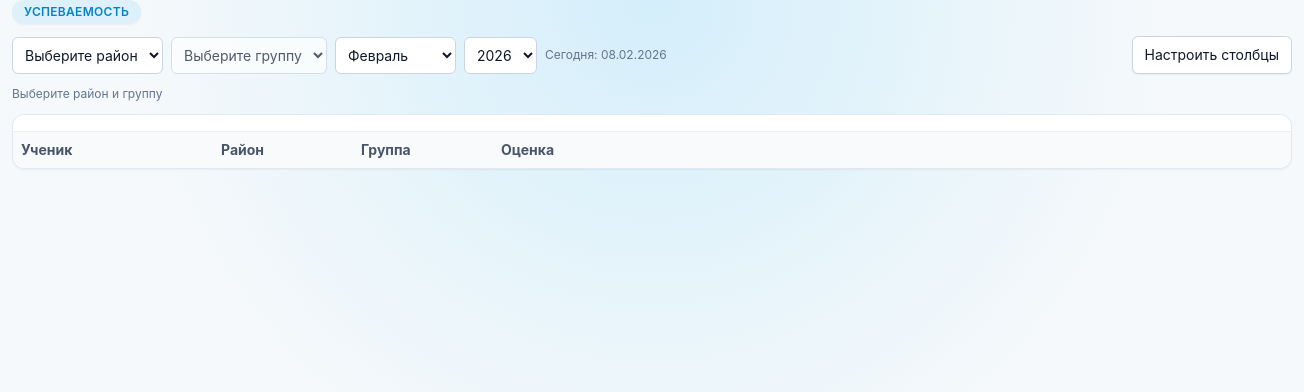
Test case: PerformanceTab hides canceled placements and clients
Select "Area1" in the 1st dropdown: (88, 55) [12,36,163,74]
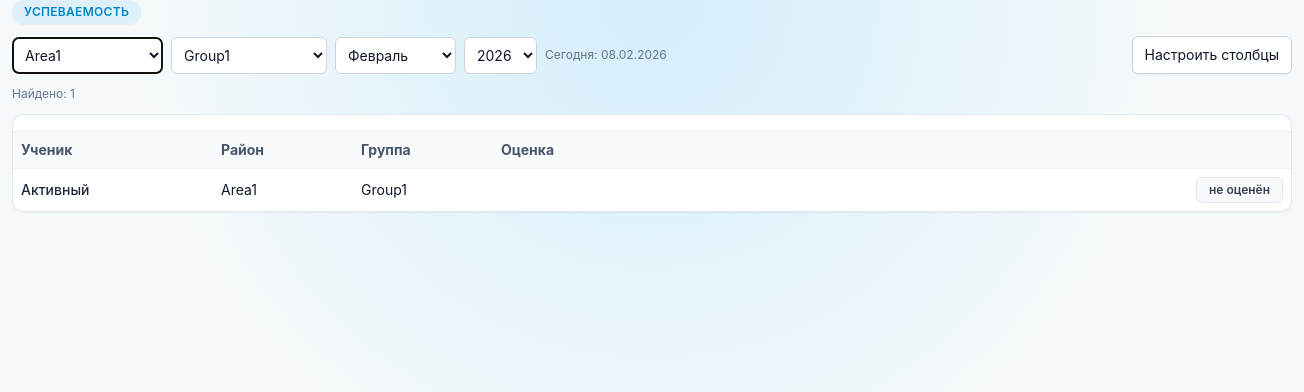
Check: the 2nd dropdown shows "Group1", box [171,36,327,74]
Check: the text "Найдено: 1" is shown, box [12,86,75,101]
Check: the text "Активный" is shown, box [21,181,90,198]
